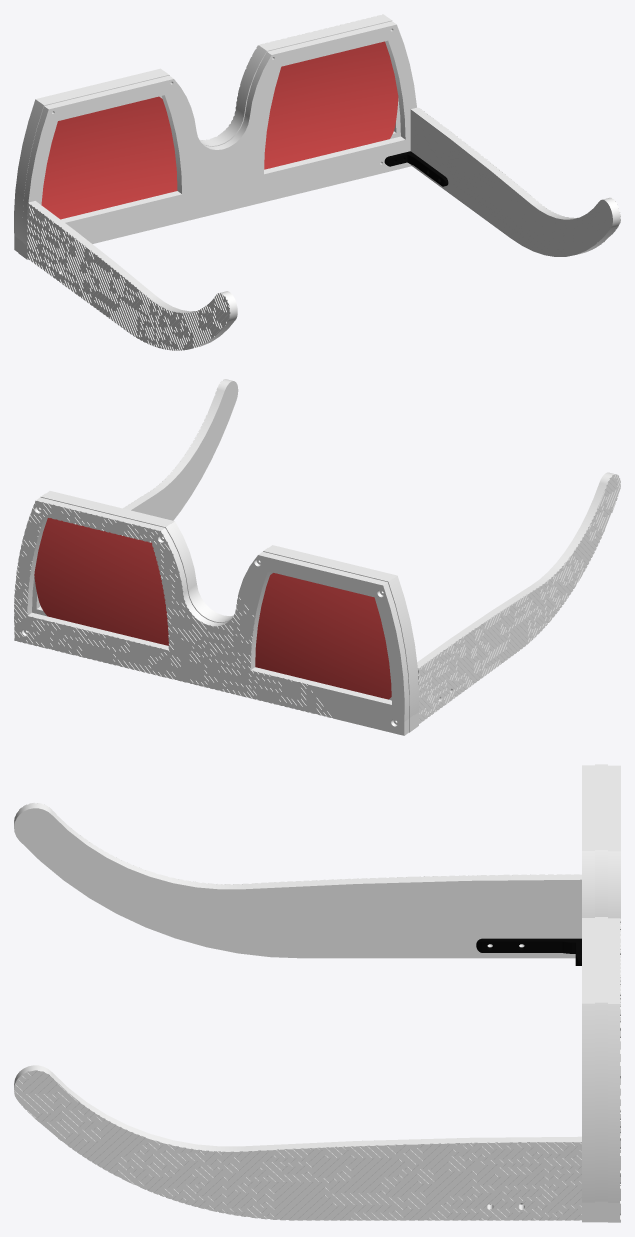
File: Hello.glb
3 renders of one model, top to bottom at view 1: azimuth 30°, elevation 25°; view 2: azimuth 150°, elevation 25°; view 3: azimuth 270°, elevation 25°, orthographic. The views are drawn at different scales.
Visible parts, largest first — view 1: brown glass, polished pine 2d, polished mahogany 2d, polished pine 2d-8, polished mahogany 2d-4, polished pine 2d-7, polished steel; view 2: brown glass, polished pine 2d-3, polished mahogany 2d, polished mahogany 2d-4, polished pine 2d-7, polished pine 2d-8; view 3: polished pine 2d-12, polished pine 2d-7, polished mahogany 2d-4, polished mahogany 2d, polished steel.
Part boxes in pixels (box(x1,y1,x2,y2)): brown glass: box(41, 41, 398, 219); polished pine 2d: box(27, 24, 416, 259); polished mahogany 2d: box(14, 14, 405, 259); polished pine 2d-8: box(410, 109, 612, 256); polished mahogany 2d-4: box(27, 107, 620, 350); polished pine 2d-7: box(27, 203, 229, 350); polished steel: box(384, 151, 448, 186); brown glass: box(34, 518, 391, 699); polished pine 2d-3: box(14, 500, 404, 735); polished mahogany 2d: box(14, 491, 418, 735); polished mahogany 2d-4: box(123, 379, 620, 723); polished pine 2d-7: box(419, 474, 620, 723); polished pine 2d-8: box(131, 381, 238, 520); polished pine 2d-12: box(14, 808, 581, 958); polished pine 2d-7: box(14, 1070, 581, 1220); polished mahogany 2d-4: box(14, 802, 581, 1220); polished mahogany 2d: box(582, 764, 620, 1222); polished steel: box(476, 938, 581, 1204).
Bounding box in the file's own units: 14.66 × 5.22 × 14.02.
